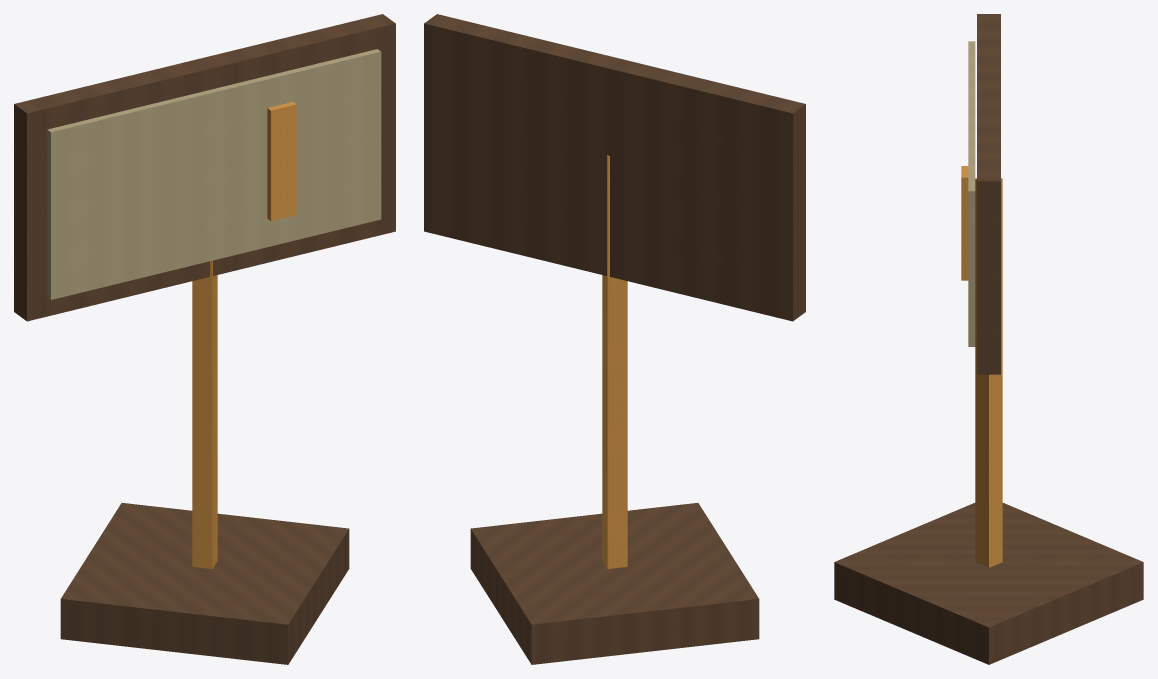
Rendered from atlas100-s012-a11.lod2.glb.
3 renders of one model, left to right at view 1: azimuth 30°, elevation 25°; view 2: azimuth 150°, elevation 25°; view 3: azimuth 270°, elevation 25°, orthographic. The views are drawn at different scales.
Visible parts, largest first — view 1: atlas100-s012-a11:part-003, atlas100-s012-a11:part-000, atlas100-s012-a11:part-002, atlas100-s012-a11:part-001, atlas100-s012-a11:part-006; view 2: atlas100-s012-a11:part-002, atlas100-s012-a11:part-000, atlas100-s012-a11:part-001; view 3: atlas100-s012-a11:part-000, atlas100-s012-a11:part-002, atlas100-s012-a11:part-001, atlas100-s012-a11:part-003, atlas100-s012-a11:part-006.
Boxes of the visible parts, <box> form: atlas100-s012-a11:part-003: <box>47,49,381,299</box>; atlas100-s012-a11:part-000: <box>60,503,349,664</box>; atlas100-s012-a11:part-002: <box>14,14,395,321</box>; atlas100-s012-a11:part-001: <box>192,260,217,568</box>; atlas100-s012-a11:part-006: <box>267,102,296,221</box>; atlas100-s012-a11:part-002: <box>424,14,805,321</box>; atlas100-s012-a11:part-000: <box>470,503,759,664</box>; atlas100-s012-a11:part-001: <box>602,155,627,568</box>; atlas100-s012-a11:part-000: <box>834,503,1143,664</box>; atlas100-s012-a11:part-002: <box>977,14,1000,374</box>; atlas100-s012-a11:part-001: <box>975,178,1002,567</box>; atlas100-s012-a11:part-003: <box>968,41,975,346</box>; atlas100-s012-a11:part-006: <box>961,166,968,280</box>.
Bounding box in the file's own units: 1.15 × 1.61 × 0.9.
3 materials, 3 textured.
